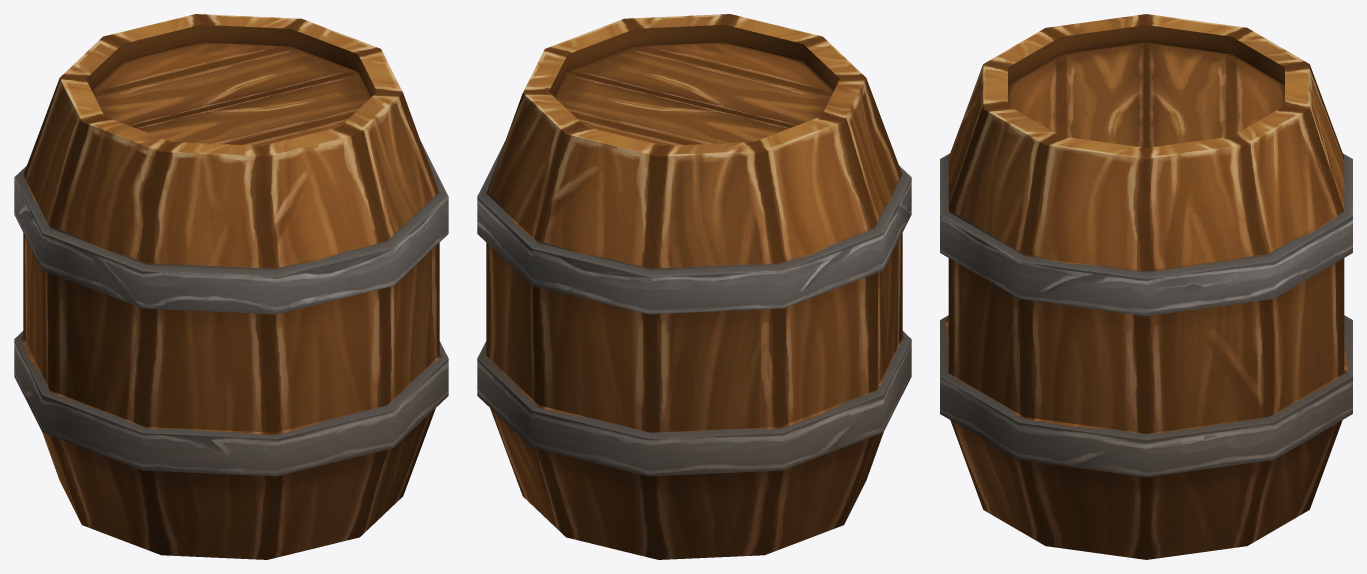
Rendered from barrel.obj.
3 views of the same model, side by side, from view 1: azimuth 30°, elevation 25°; view 2: azimuth 150°, elevation 25°; view 3: azimuth 270°, elevation 25° (orthographic).
Visible parts, largest first — view 1: Barrel; view 2: Barrel; view 3: Barrel.
Part boxes in pixels (x1,y1,x2,y2): Barrel: [14, 14, 448, 559]; Barrel: [477, 14, 911, 559]; Barrel: [940, 14, 1352, 559].
Size of the model in its own units: 1.38 by 1.41 by 1.31.
1 material, 1 textured.
